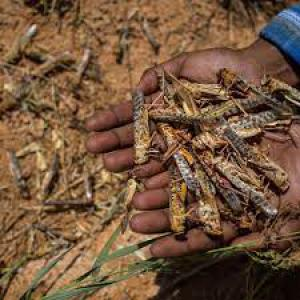locust: (124, 73, 158, 168), (217, 57, 269, 112), (184, 132, 213, 209)
